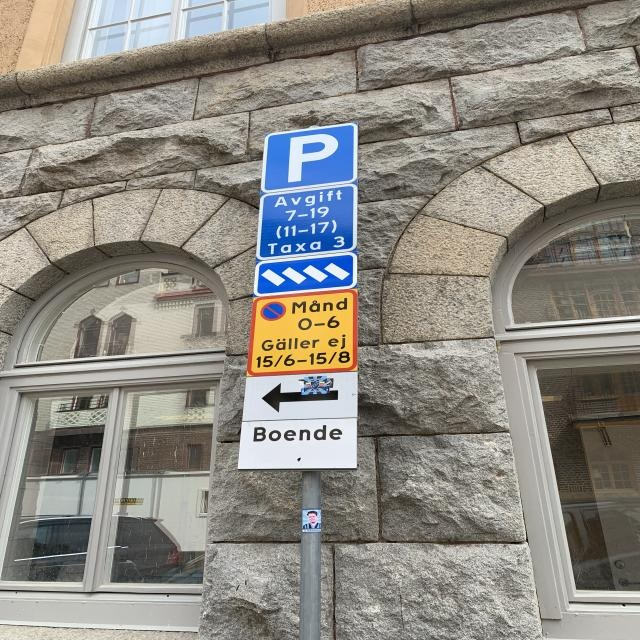P-skylt: (253, 119, 361, 195)
